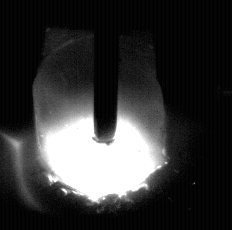arame: (94, 0, 118, 144)
poca: (35, 0, 167, 230)
